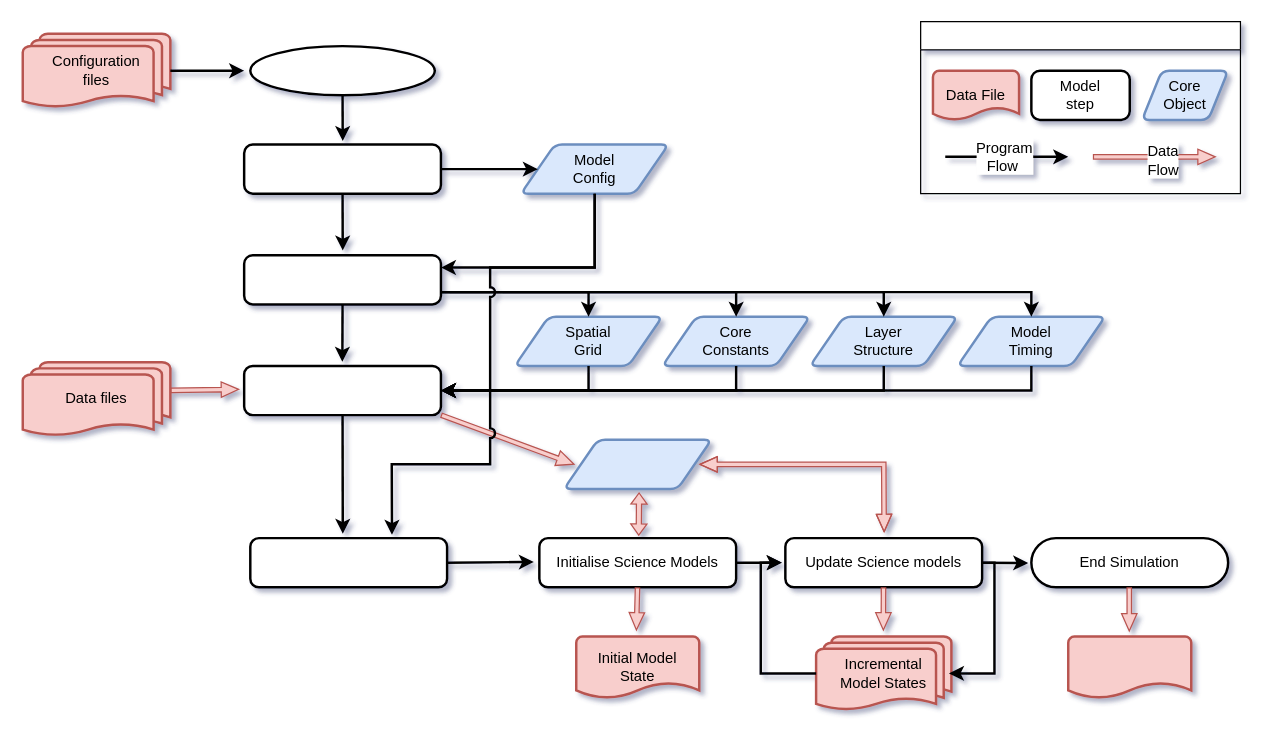
Image size: 1269x740. Some labels were removed from this diagram. The shapes that lost their labels are listed below. From the top down, each one's box as (x1, y1, x2, y2) in pixels, then its label:
(248, 44, 435, 96): Start Simulation
(919, 20, 1240, 194): Key
(242, 143, 442, 194): Load and validate configuration
(242, 253, 442, 305): Create Core components
(242, 364, 442, 416): Load and validate initial data
(562, 438, 712, 490): Data Store
(248, 536, 448, 588): Configure Science Models
(1066, 635, 1192, 699): Final Model State
